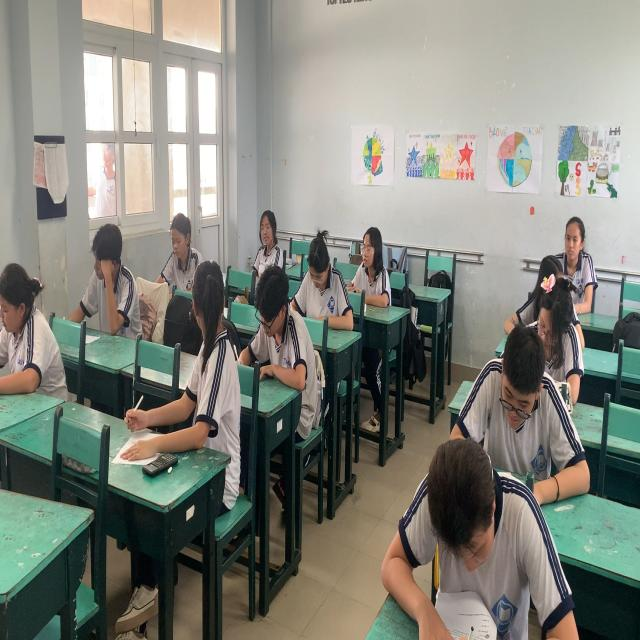cheating: (180, 260, 237, 454)
not_cheating: (387, 447, 553, 640), (483, 344, 579, 482), (527, 261, 585, 406), (250, 258, 306, 388), (77, 212, 137, 333), (1, 257, 52, 399), (554, 209, 598, 323), (300, 233, 350, 326), (351, 219, 392, 309), (240, 195, 284, 278), (151, 202, 203, 268)
